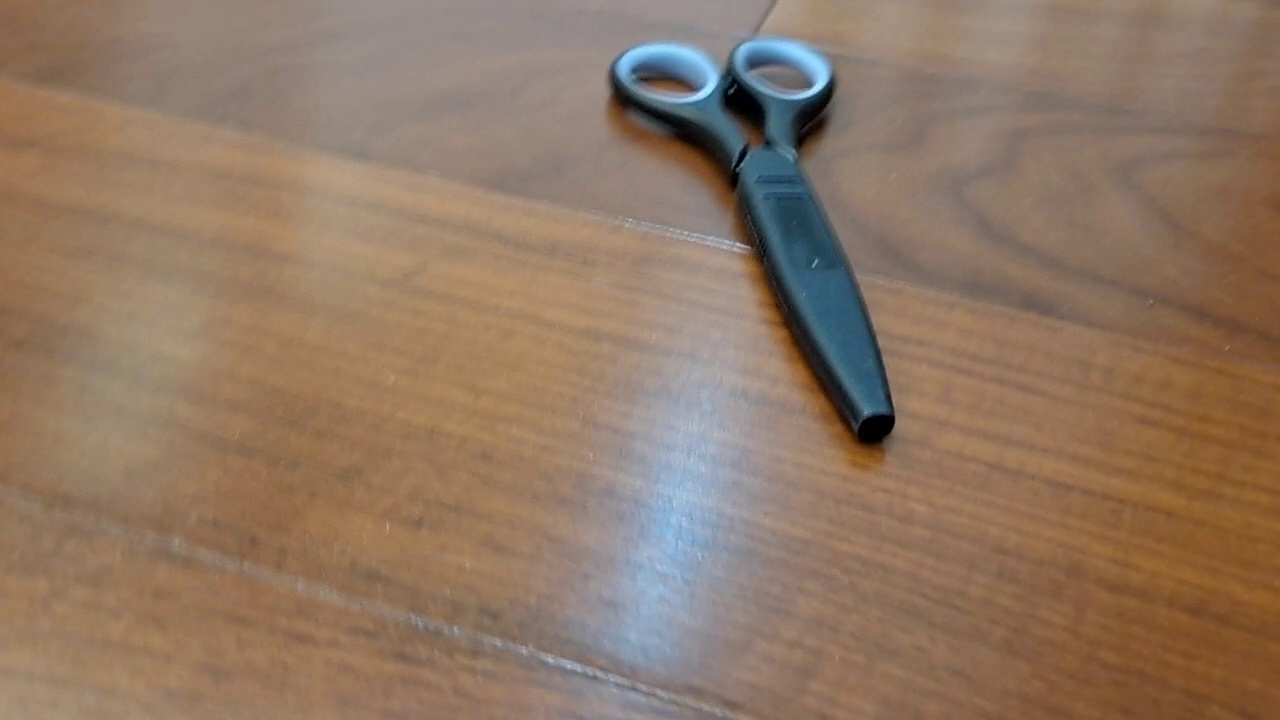scissors: (607, 35, 897, 446)
